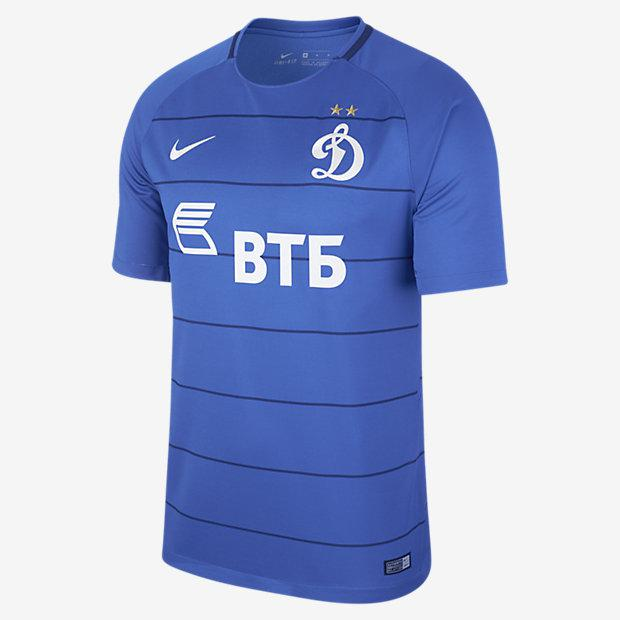teeshirt: (66, 1, 539, 620)
